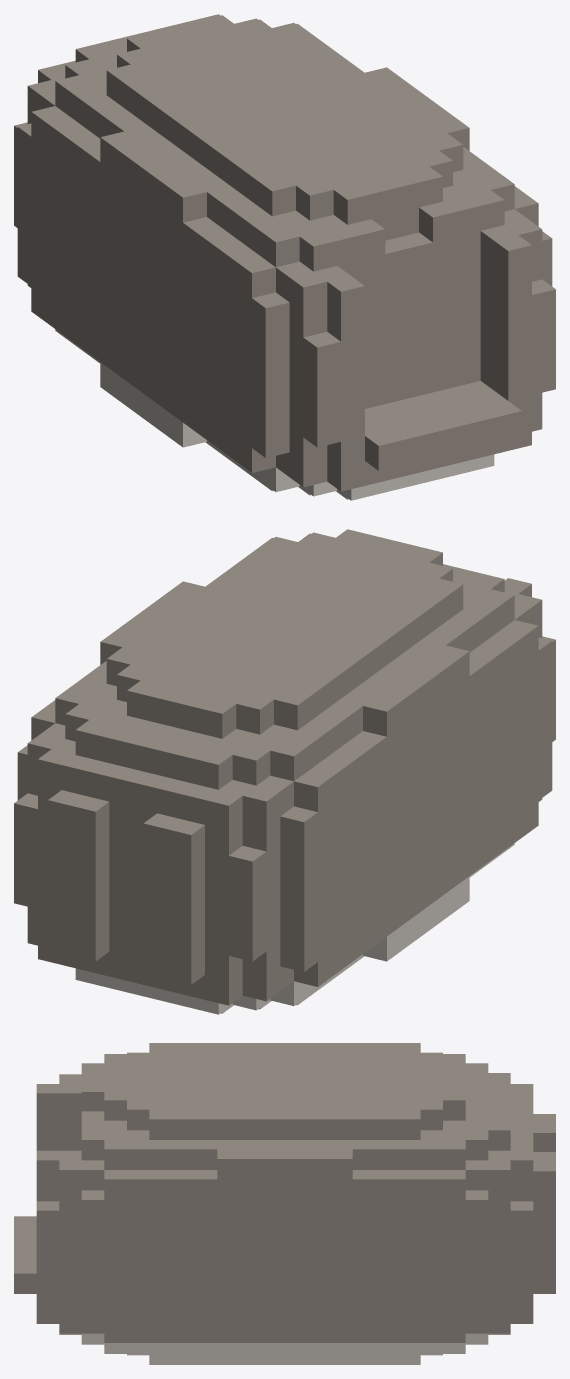
File: donkey__body.obj
3 views of the same model, one above another, from view 1: azimuth 30°, elevation 25°; view 2: azimuth 150°, elevation 25°; view 3: azimuth 270°, elevation 25° (orthographic). The views are drawn at different scales.
Parts seen in each view (by area): view 1: donkey__body; view 2: donkey__body; view 3: donkey__body.
Boxes of the visible parts, left/top/right/bottom form: donkey__body: left=14, top=14, right=555, bottom=500; donkey__body: left=14, top=529, right=555, bottom=1014; donkey__body: left=14, top=1043, right=555, bottom=1364.
Size of the model in its own units: 1.2 by 1.2 by 2.4.
1 material, 1 textured.
